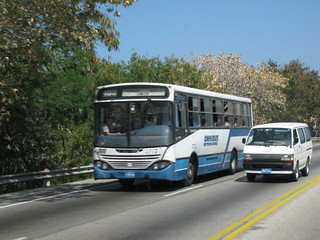bus: (92, 82, 254, 187)
van: (243, 121, 313, 183)
